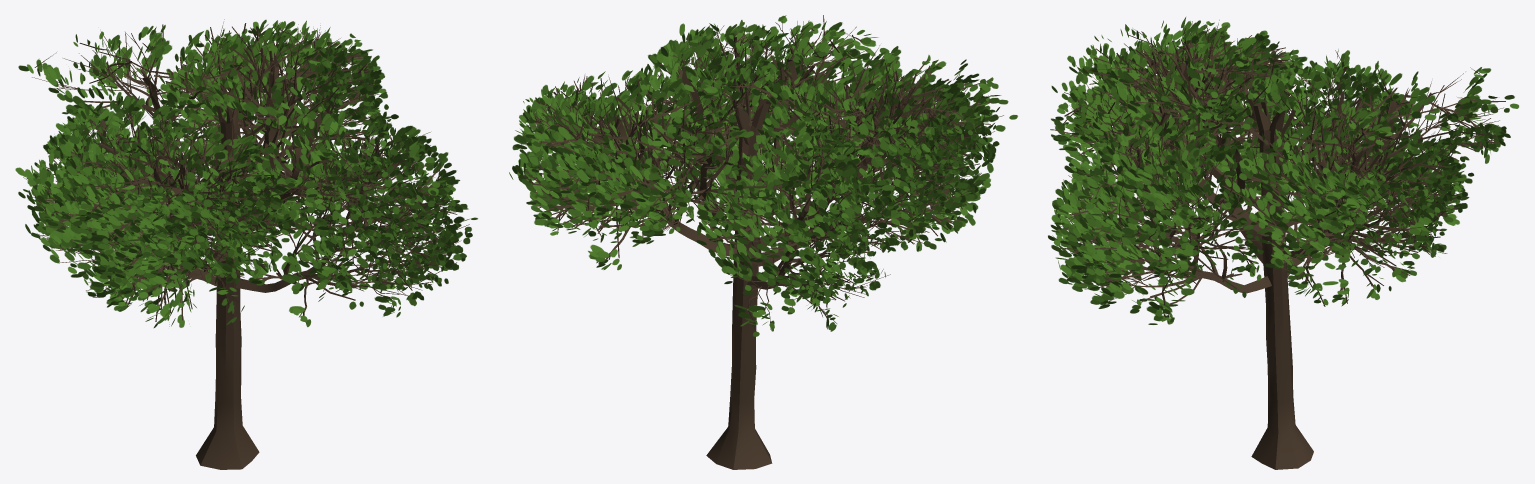
3 views of the same model, side by side, from view 1: azimuth 30°, elevation 25°; view 2: azimuth 150°, elevation 25°; view 3: azimuth 270°, elevation 25° (orthographic).
Visible parts, largest first — view 1: oak 01.001_trunk_Mat.001_0.058; view 2: oak 01.001_trunk_Mat.001_0.058; view 3: oak 01.001_trunk_Mat.001_0.058.
Part boxes in pixels (x1,y1,x2,y2): oak 01.001_trunk_Mat.001_0.058: (15, 19, 477, 469); oak 01.001_trunk_Mat.001_0.058: (509, 15, 1017, 469); oak 01.001_trunk_Mat.001_0.058: (1048, 16, 1519, 469).
Size of the model in its own units: 5.61 by 4.93 by 5.74.
2 materials, 1 textured.
